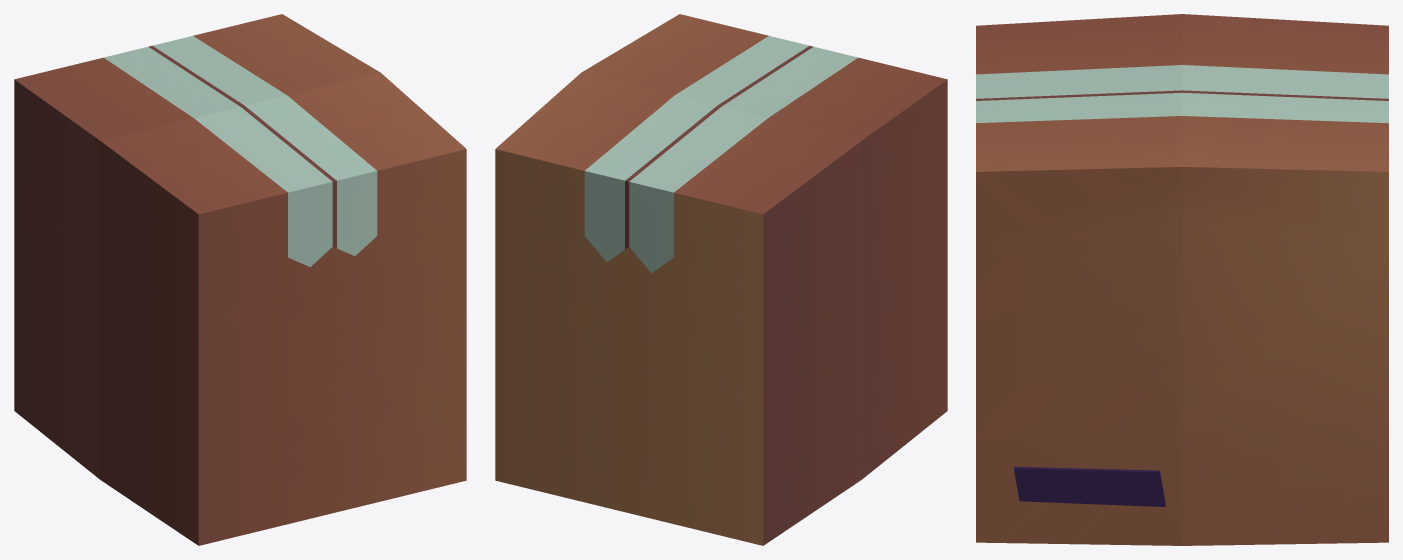
The model's file is Riven_CardboardBox03.fbx.
3 renders of one model, left to right at view 1: azimuth 30°, elevation 25°; view 2: azimuth 150°, elevation 25°; view 3: azimuth 270°, elevation 25°, orthographic. The views are drawn at different scales.
Visible parts, largest first — view 1: BezosBox.002; view 2: BezosBox.002; view 3: BezosBox.002.
Part boxes in pixels (<box>): BezosBox.002: <box>14,14,466,545</box>; BezosBox.002: <box>495,14,947,545</box>; BezosBox.002: <box>976,14,1388,545</box>.
Bounding box in the file's own units: 22.2 × 25.33 × 24.99.
